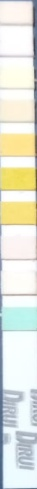color 1: (1, 1, 37, 22)
color 10: (2, 308, 37, 329)
color 2: (1, 34, 32, 54)
color 3: (1, 68, 33, 87)
color 4: (1, 101, 33, 121)
color 5: (1, 134, 34, 154)
color 6: (1, 167, 34, 188)
color 7: (2, 203, 35, 223)
color 8: (1, 239, 35, 259)
color 9: (1, 272, 37, 293)
